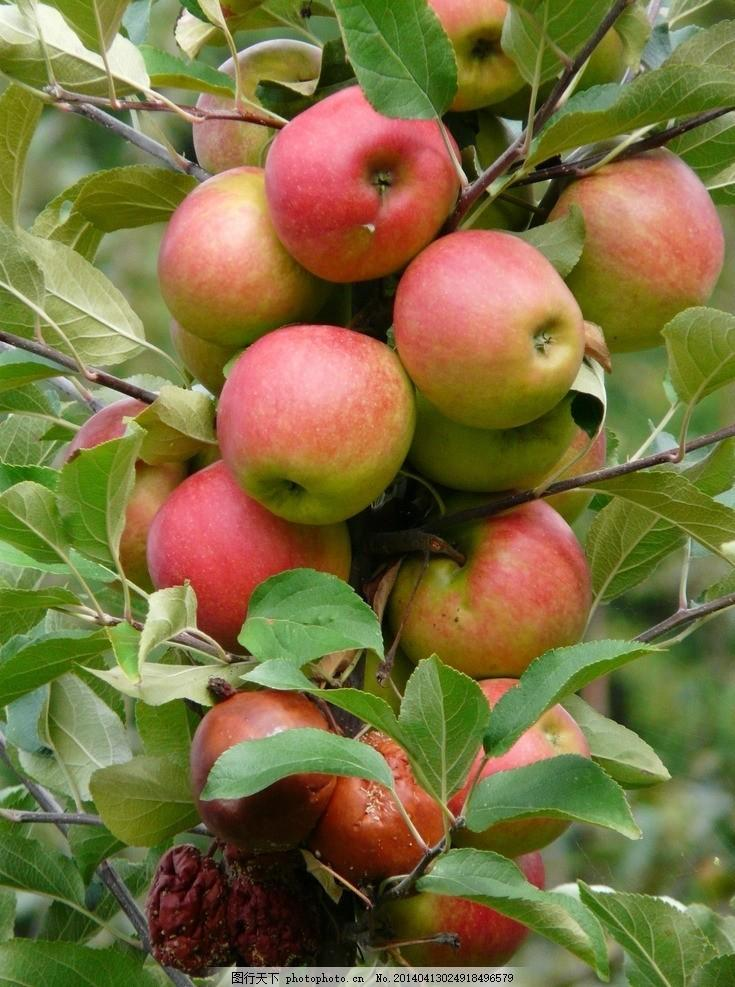apple: (215, 324, 416, 529), (389, 228, 589, 431), (379, 500, 592, 687), (542, 143, 723, 356), (265, 91, 459, 286)
